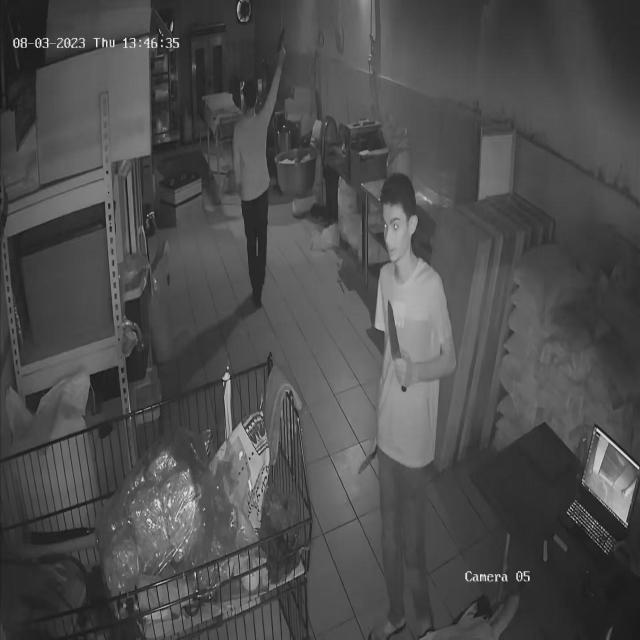Gun: (264, 20, 303, 64)
Knife: (375, 287, 423, 385)
